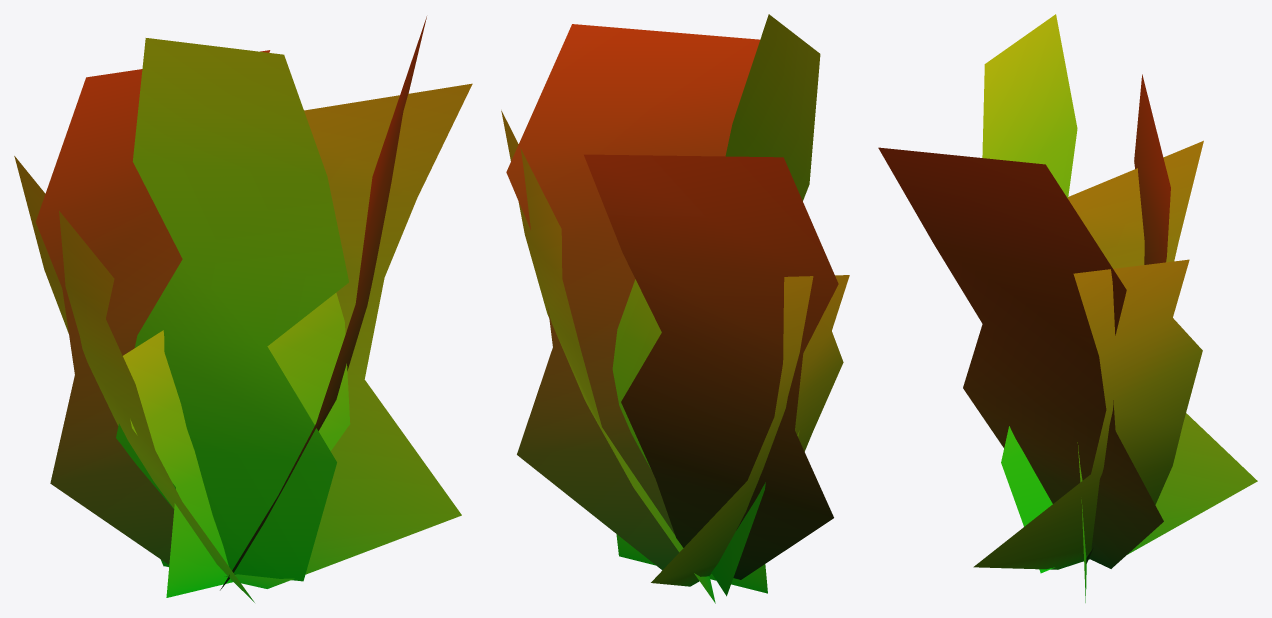
The model's file is Var8Hi7.fbx.
The picture shows the model from 3 angles, left to right: view 1: azimuth 30°, elevation 25°; view 2: azimuth 150°, elevation 25°; view 3: azimuth 270°, elevation 25°; orthographic projection. The views are drawn at different scales.
Visible parts, largest first — view 1: bend1; view 2: bend1; view 3: bend1.
Boxes of the visible parts, <box> form: bend1: <box>14,16,472,602</box>; bend1: <box>501,14,849,603</box>; bend1: <box>878,14,1257,602</box>.
Bounding box in the file's own units: 1.27 × 1.76 × 1.2.
